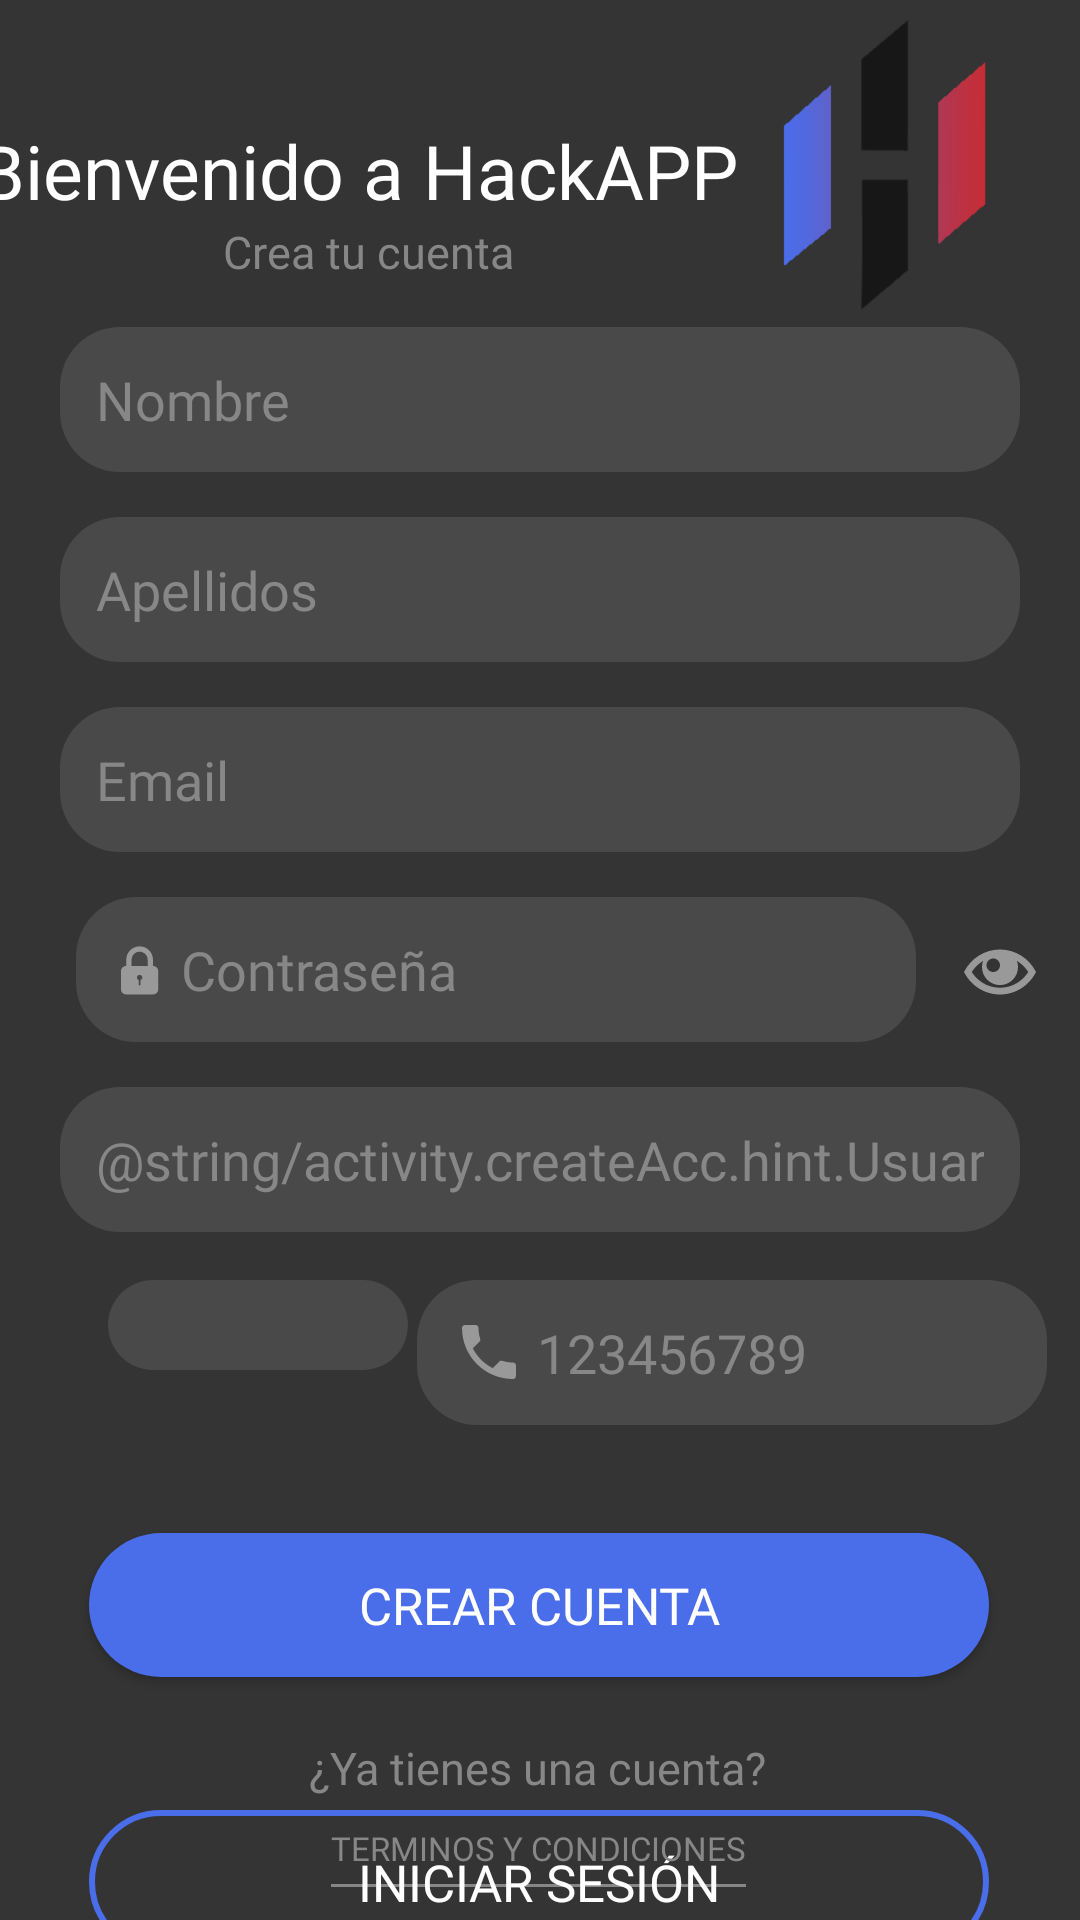

Named icons in this screenshot (1080*1920) and their bounding boxes, {"x1": x1, "y1": y1, "x2": x2, "y2": y2}:
check pass open: {"x1": 964, "y1": 949, "x2": 1036, "y2": 995}
